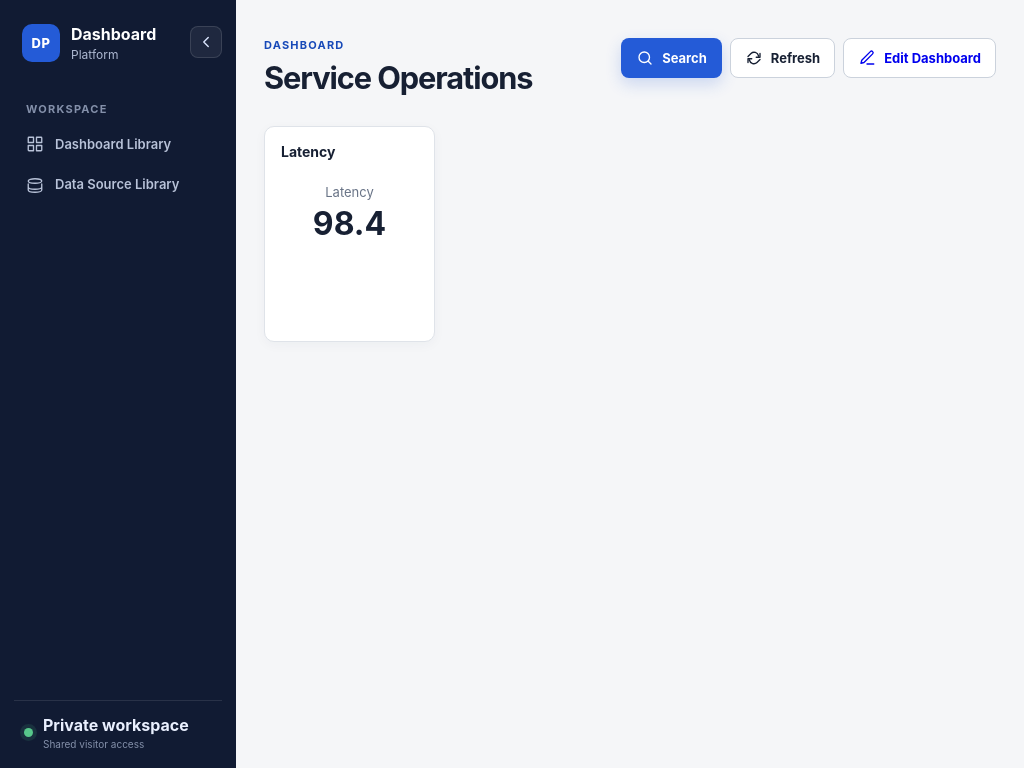
Test: DashboardViewer search and refresh › runs widget requests only after Search is clicked
This screenshot has width=1024, height=768.
Expected: the heading "Latency" is shown, [281,143,336,160]
Click the button "Search" at point(672, 58), box [621,38,722,78]
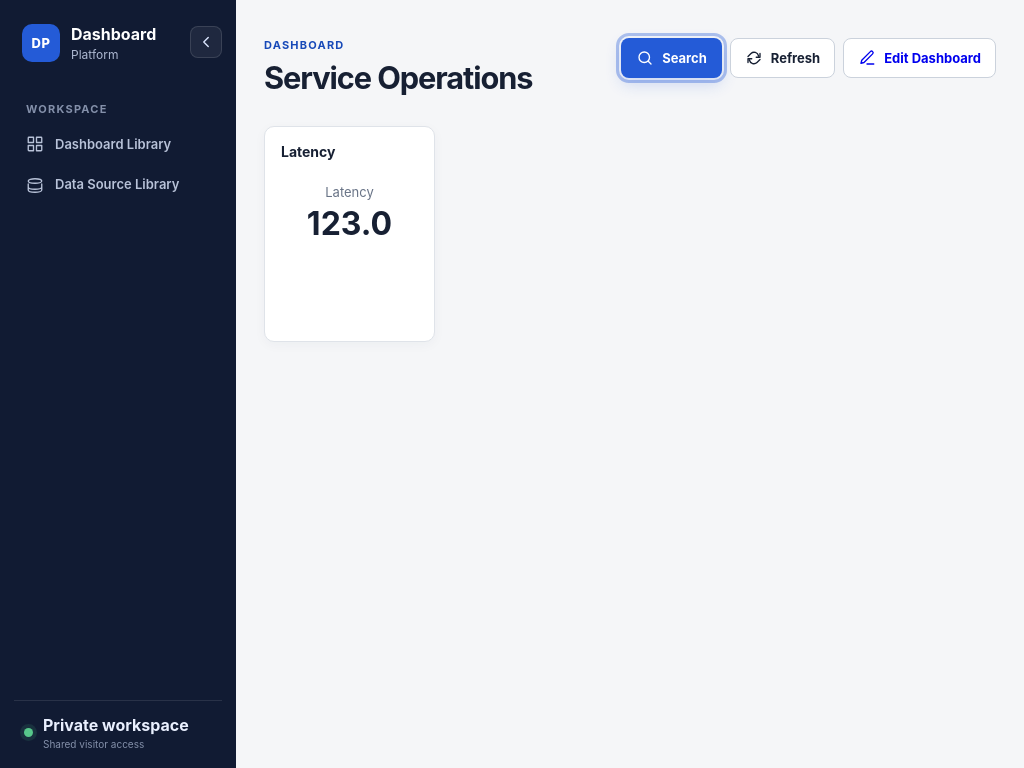
Result: the text "123.0" is shown at [307,204,392,243]
